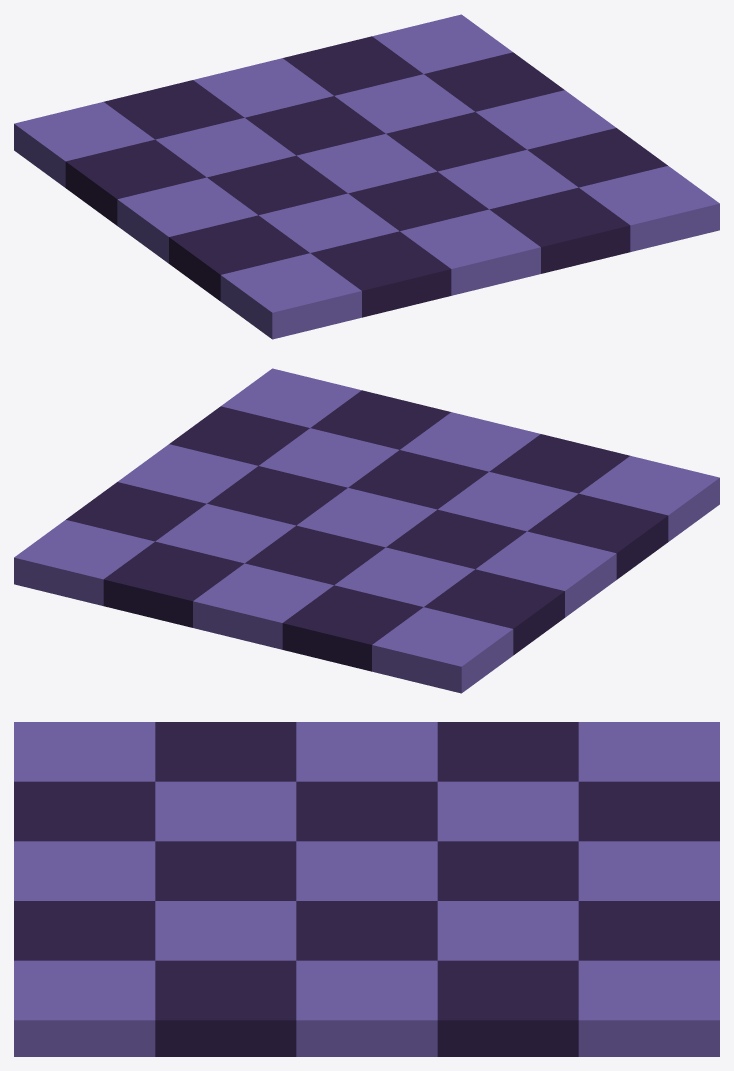
The model's file is FarmGrid2.obj.
3 renders of one model, top to bottom at view 1: azimuth 30°, elevation 25°; view 2: azimuth 150°, elevation 25°; view 3: azimuth 270°, elevation 25°, orthographic. The views are drawn at different scales.
Bounding box in the file's own units: 3.5 × 0.2 × 3.5.
1 material, 1 textured.
